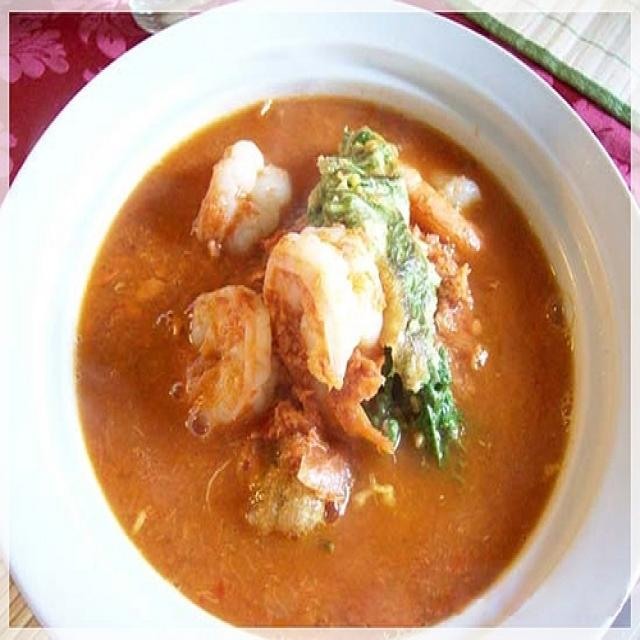汤锅炖物: (27, 34, 613, 628)
